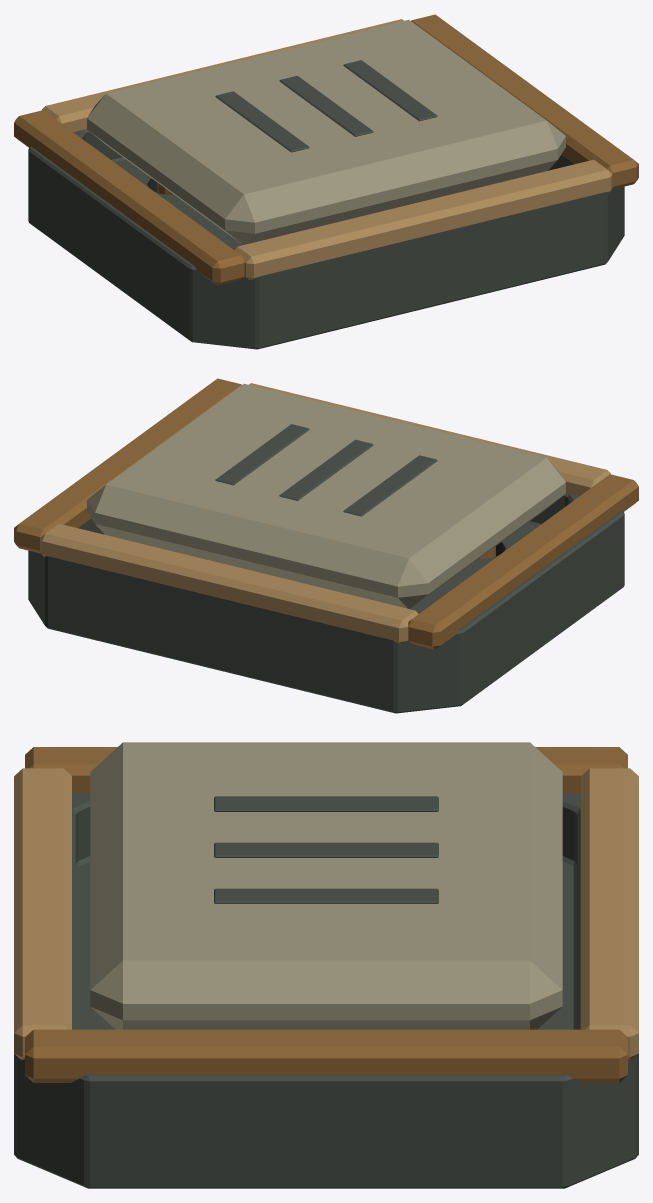
Rendered from PRESSURE_PLATE.lo.glb.
3 renders of one model, top to bottom at view 1: azimuth 30°, elevation 25°; view 2: azimuth 150°, elevation 25°; view 3: azimuth 270°, elevation 25°, orthographic. The views are drawn at different scales.
Visible parts, largest first — view 1: Body_Mesh, PlateTravel_Mesh; view 2: Body_Mesh, PlateTravel_Mesh; view 3: Body_Mesh, PlateTravel_Mesh.
Part boxes in pixels (box(x1,y1,x2,y2)): Body_Mesh: box(14, 14, 638, 349); PlateTravel_Mesh: box(87, 19, 565, 244); Body_Mesh: box(14, 378, 638, 713); PlateTravel_Mesh: box(87, 383, 565, 608); Body_Mesh: box(14, 747, 638, 1188); PlateTravel_Mesh: box(90, 742, 562, 1029).
Bounding box in the file's own units: 1.02 × 0.2805 × 0.86.
